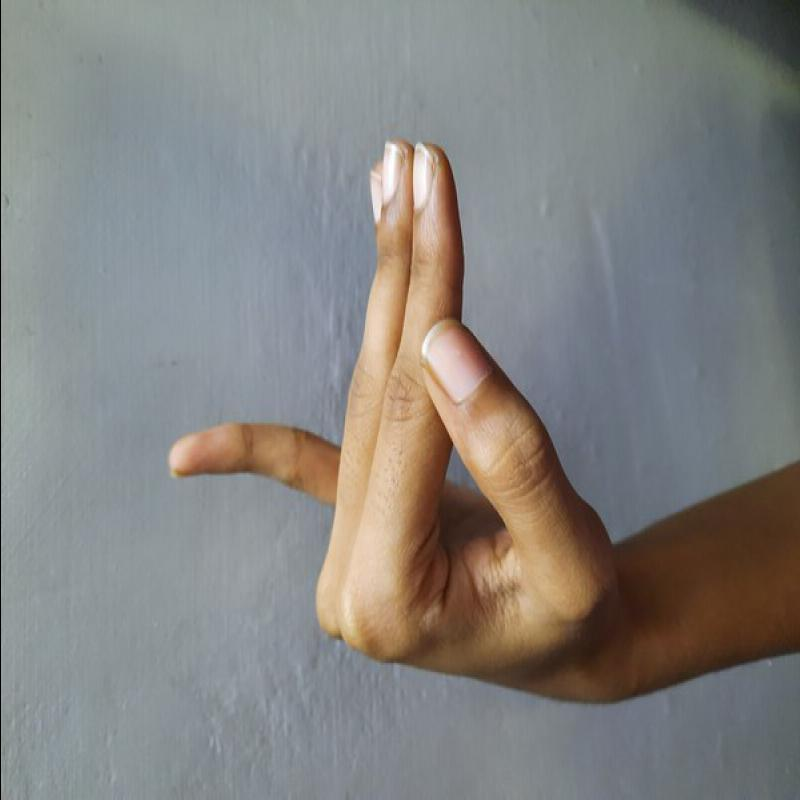Kartharee Mukham: (148, 118, 628, 713)
